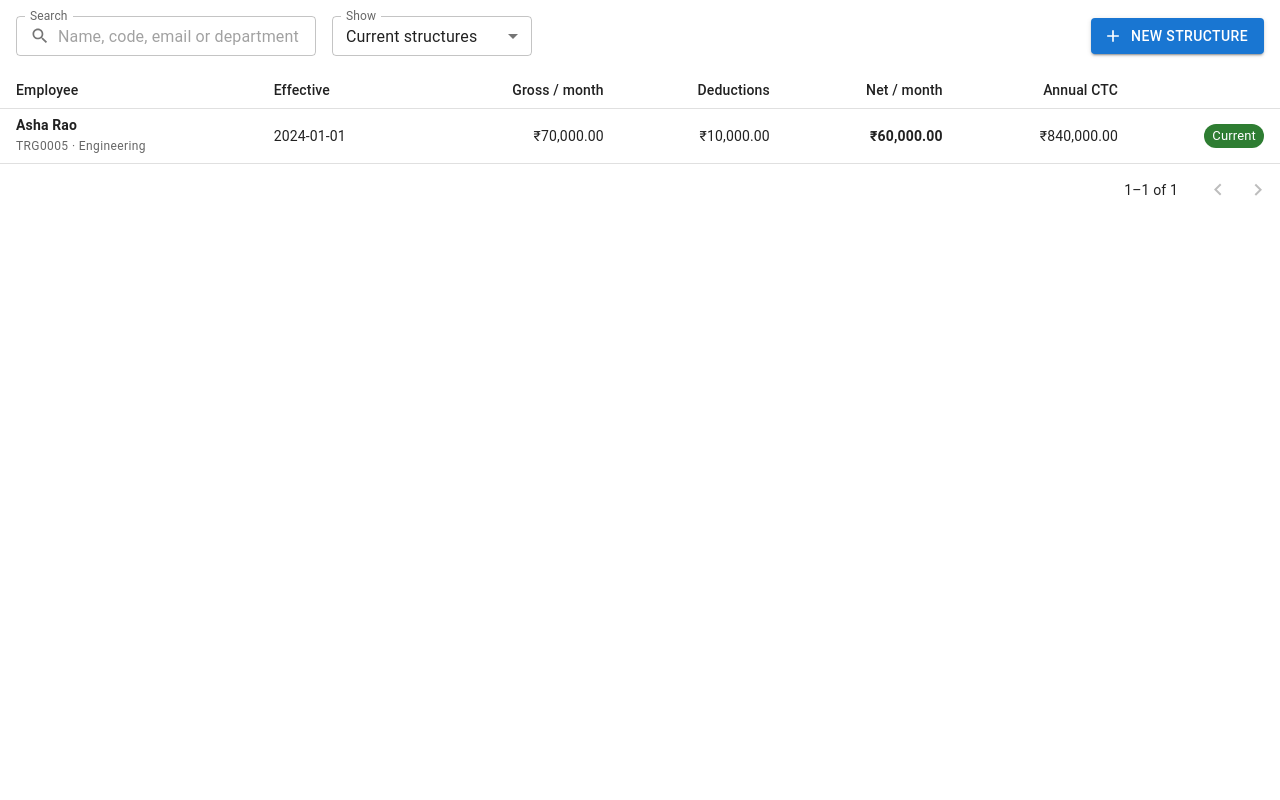
Scenario: SalaryStructuresTab — choosing the employee › shows the matches with enough to tell two people apart
Step 1. Click the button "New structure" → (1178, 36), box [1091,18,1264,54]
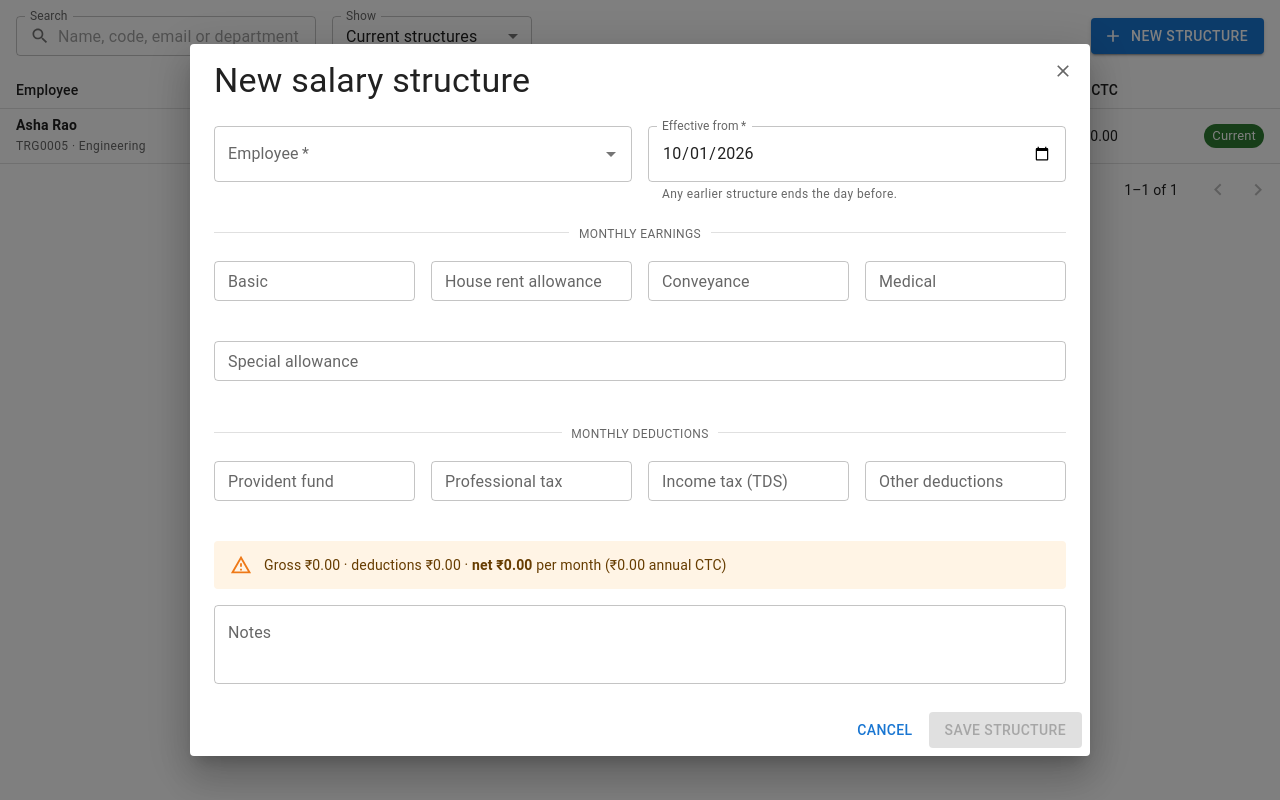
Step 2. Type "Kart" into the dropdown labelled "Employee *" → (408, 154), box [223,135,593,173]
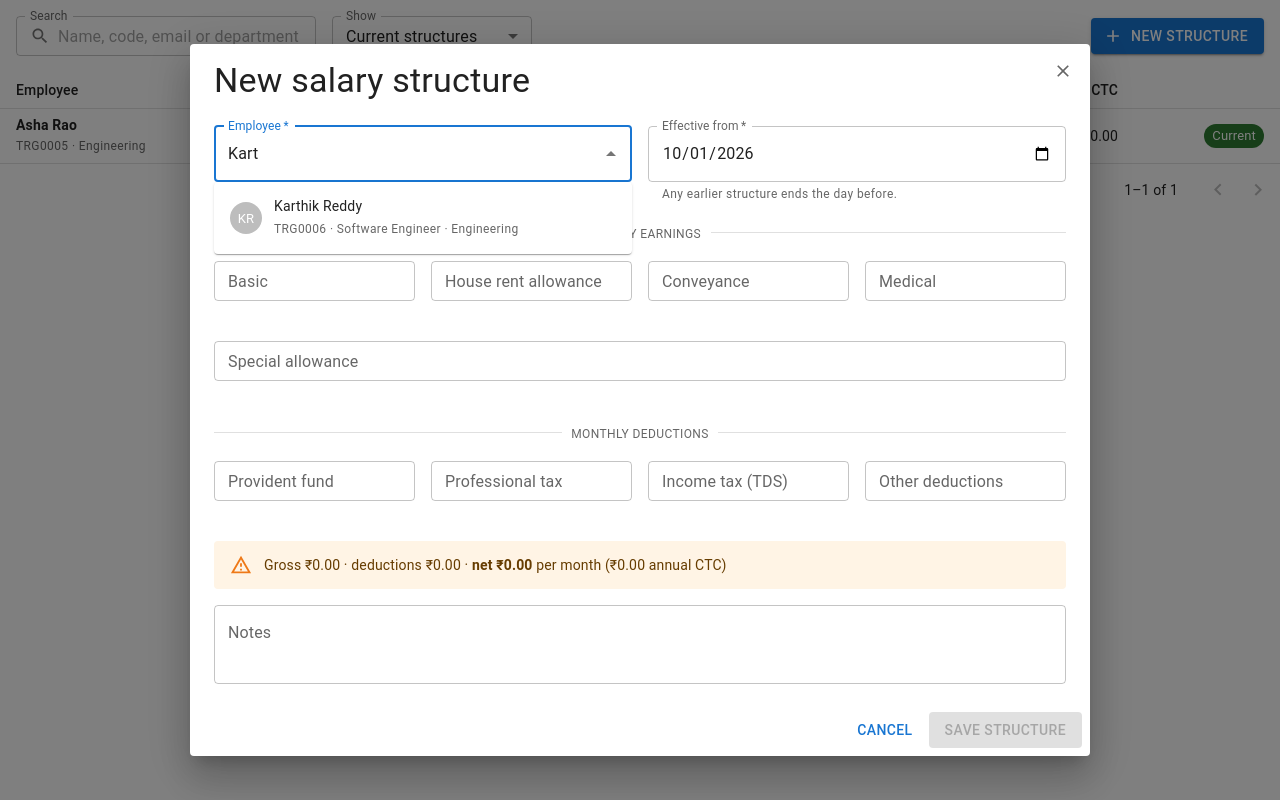
Check: the text "Karthik Reddy" is shown, box [274,198,362,214]
Check: the text "TRG0006 · Software Engineer · Engineering" is shown, box [274,222,518,236]
